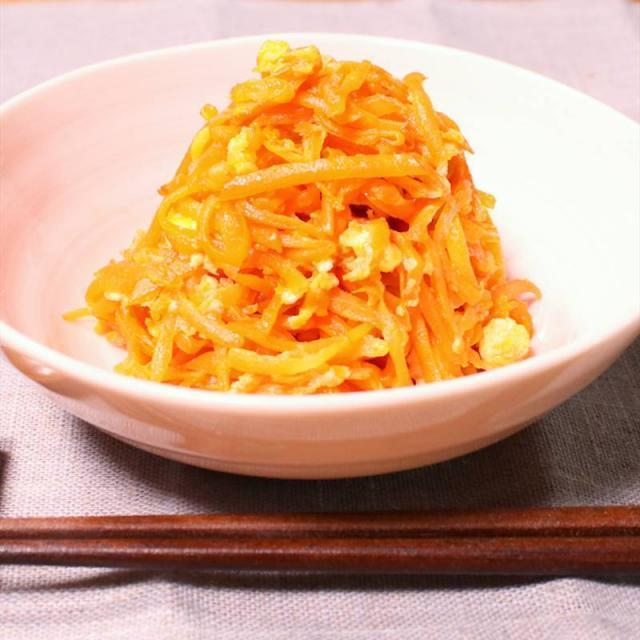carrot_eggs: (93, 49, 530, 390)
